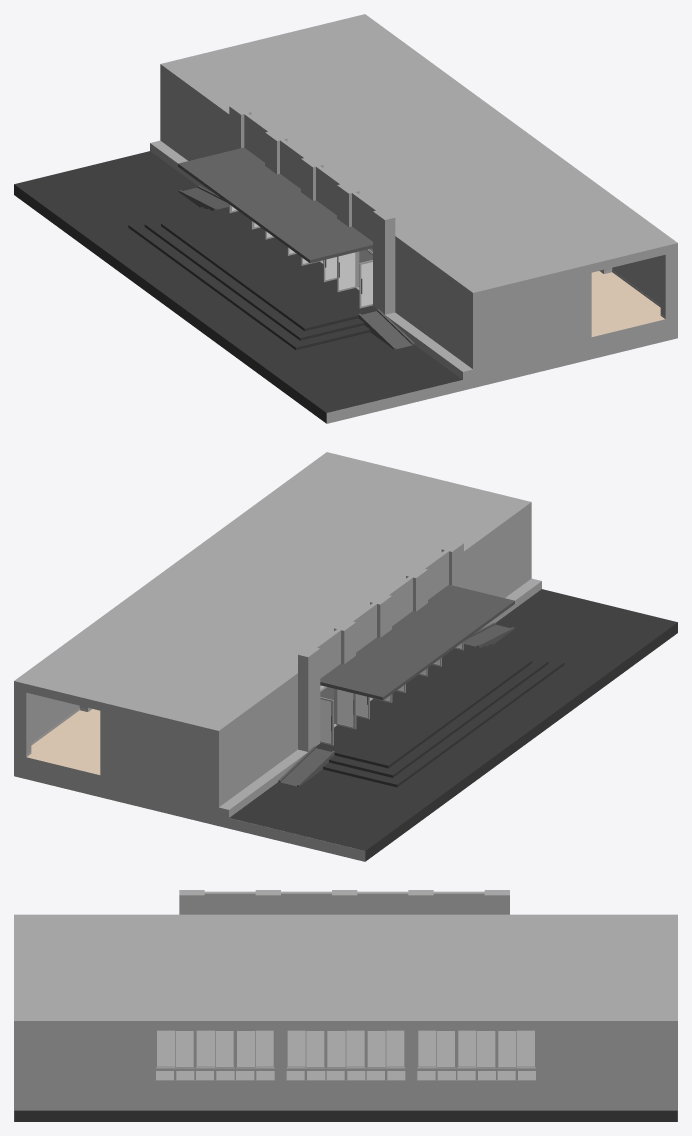
File: anime-school-entrance-simplified.glb
The picture shows the model from 3 angles, top to bottom: view 1: azimuth 30°, elevation 25°; view 2: azimuth 150°, elevation 25°; view 3: azimuth 270°, elevation 25°; orthographic projection. The views are drawn at different scales.
Visible parts, largest first — view 1: Object_6, Object_925; view 2: Object_6, Object_925; view 3: Object_6, Object_925.
Boxes of the visible parts, x1,y1,x2,y2 form: Object_6: (14,14,677,423); Object_925: (229,204,372,308); Object_6: (14,452,677,861); Object_925: (320,641,463,745); Object_6: (14,890,677,1121); Object_925: (155,1030,536,1081).
Bounding box in the file's own units: 17.06 × 5.27 × 26.32.
Materials: 3 (3 with a texture image).
